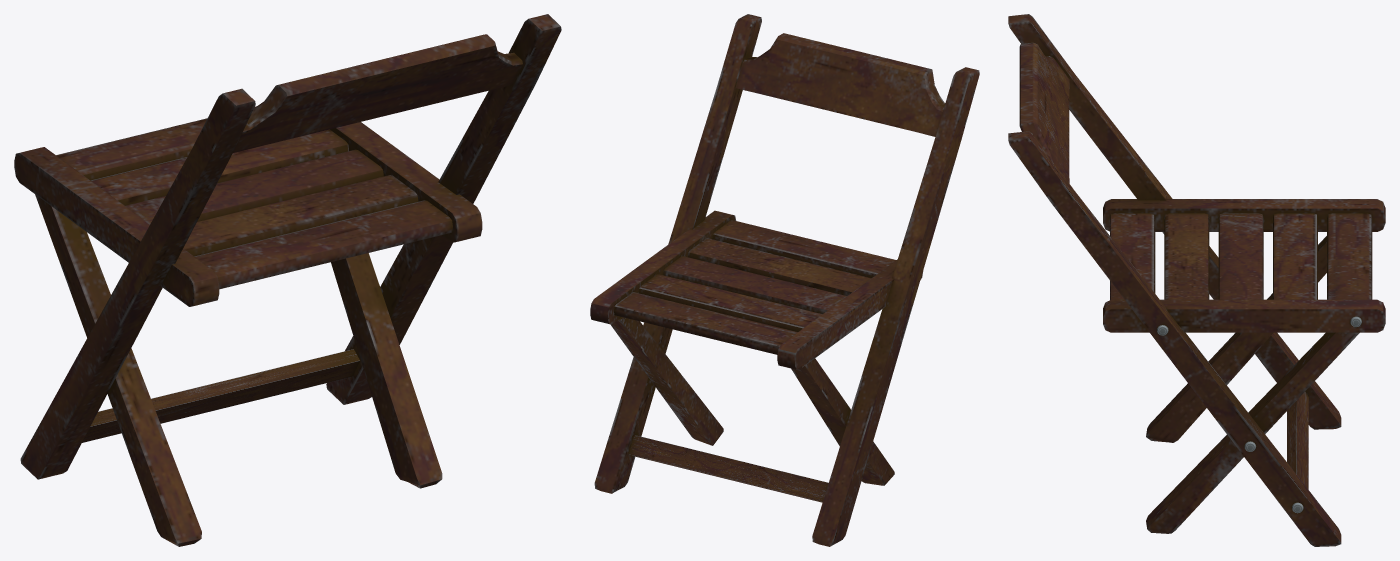
Rendered from Cadeira.fbx.
3 views of the same model, side by side, from view 1: azimuth 30°, elevation 25°; view 2: azimuth 150°, elevation 25°; view 3: azimuth 270°, elevation 25° (orthographic). The views are drawn at different scales.
Visible parts, largest first — view 1: Cube.002; view 2: Cube.002; view 3: Cube.002.
Boxes of the visible parts, bbox=[...] form: Cube.002: bbox=[14, 14, 561, 546]; Cube.002: bbox=[590, 14, 979, 546]; Cube.002: bbox=[1008, 14, 1385, 546].
Size of the model in its own units: 66.85 by 98.62 by 82.34.
